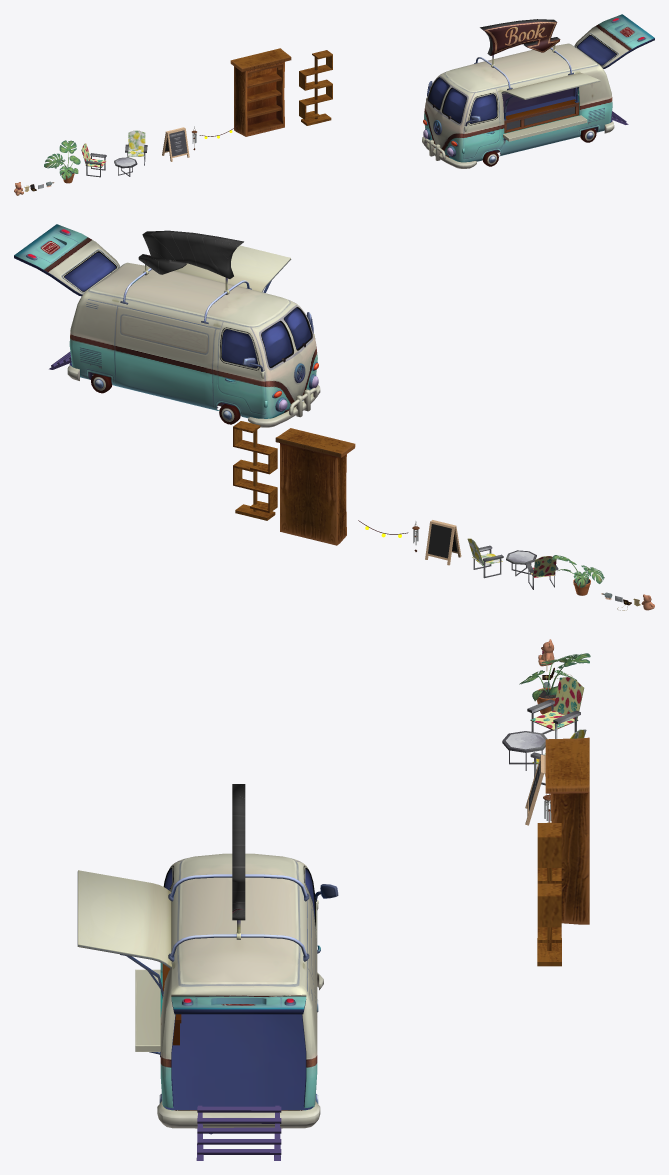
File: Words on the Waves_Item.fbx
3 renders of one model, top to bottom at view 1: azimuth 30°, elevation 25°; view 2: azimuth 150°, elevation 25°; view 3: azimuth 270°, elevation 25°, orthographic. The views are drawn at different scales.
Parts seen in each view (by area): view 1: Xe, Tu sach, Cua sau, Ke sach2, Cay, Bang, Ghe.001, Ghe; view 2: Xe, Tu sach, Cua sau, Ke sach2, Bang, Cay, Ghe.001, Ghe; view 3: Xe, Tu sach, Ke sach2, Cau thang, Cua sau, Ghe, Cay, Ban.
Part boxes in pixels (bbox=[...]): Xe: bbox=[422, 19, 614, 168]; Tu sach: bbox=[230, 48, 291, 136]; Cua sau: bbox=[574, 14, 654, 68]; Ke sach2: bbox=[299, 50, 332, 125]; Cay: bbox=[44, 140, 80, 183]; Bang: bbox=[162, 127, 189, 161]; Ghe.001: bbox=[125, 130, 147, 165]; Ghe: bbox=[81, 143, 106, 177]; Xe: bbox=[67, 230, 320, 427]; Tu sach: bbox=[275, 428, 355, 545]; Cua sau: bbox=[14, 224, 119, 296]; Ke sach2: bbox=[233, 421, 277, 520]; Bang: bbox=[425, 520, 461, 565]; Cay: bbox=[552, 555, 604, 595]; Ghe.001: bbox=[467, 538, 503, 578]; Ghe: bbox=[525, 556, 558, 589]; Xe: bbox=[77, 784, 338, 1134]; Tu sach: bbox=[545, 737, 589, 924]; Ke sach2: bbox=[537, 822, 561, 966]; Cau thang: bbox=[196, 1105, 281, 1160]; Cua sau: bbox=[171, 994, 306, 1014]; Ghe: bbox=[527, 677, 584, 738]; Cay: bbox=[519, 653, 590, 714]; Ban: bbox=[502, 731, 547, 770].
Size of the model in its own units: 19.27 by 4.32 by 7.83.
Materials: 16 (15 with a texture image).
